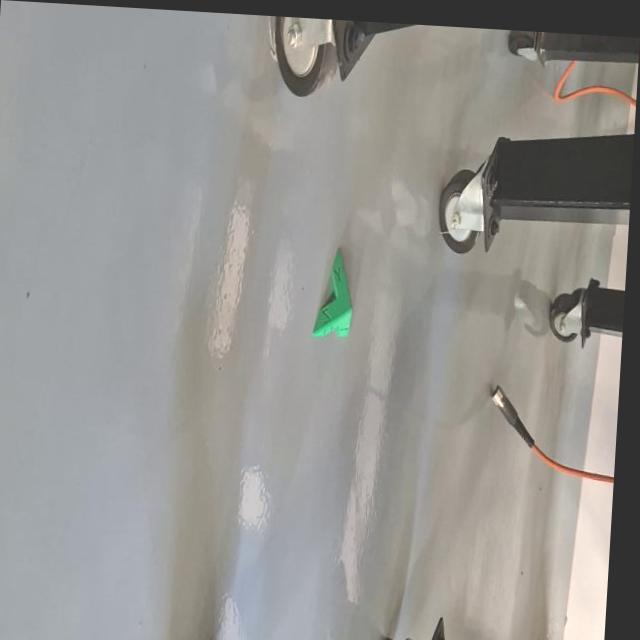eje: (311, 245, 356, 340)
